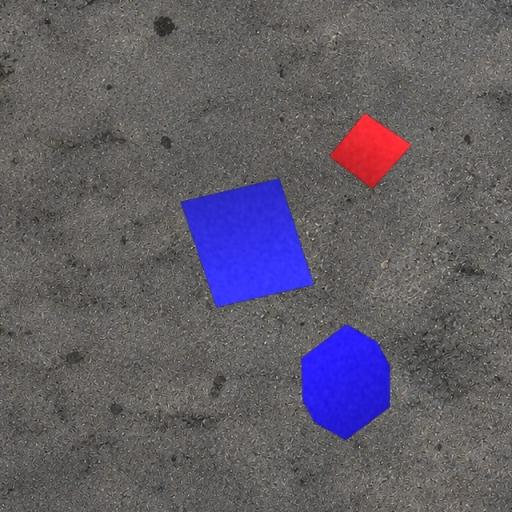BLUE_SQUARE: (180, 178, 314, 308)
RED_SQUARE: (328, 112, 413, 190)
